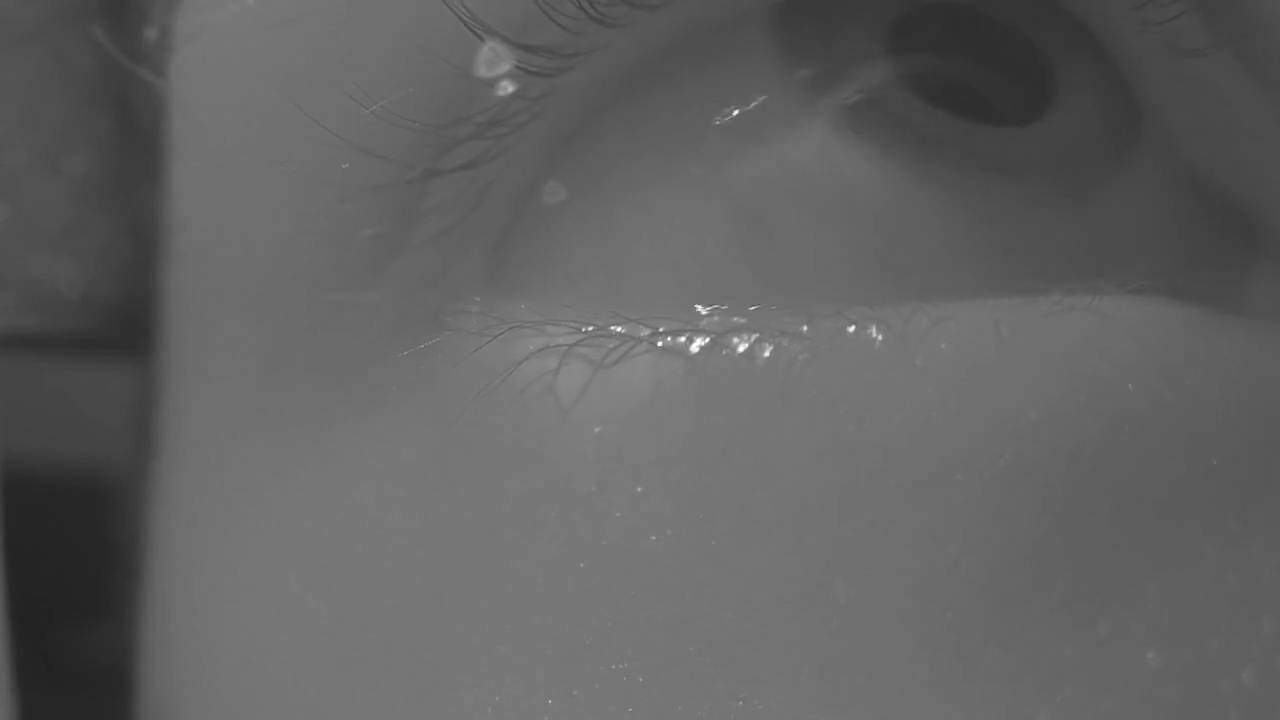pupil: (887, 2, 1058, 129)
